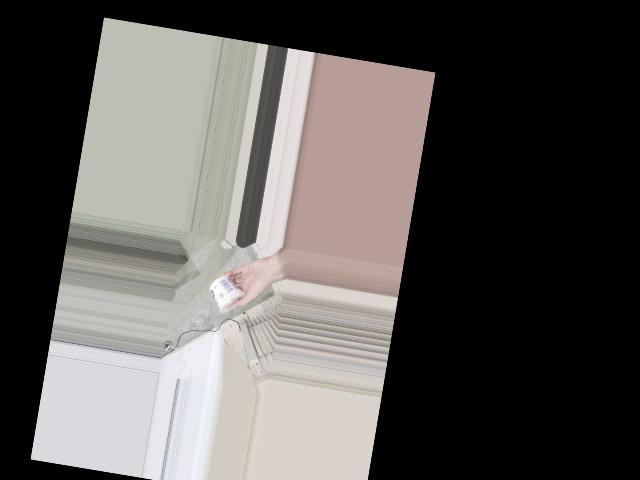cotage: (205, 271, 249, 317)
